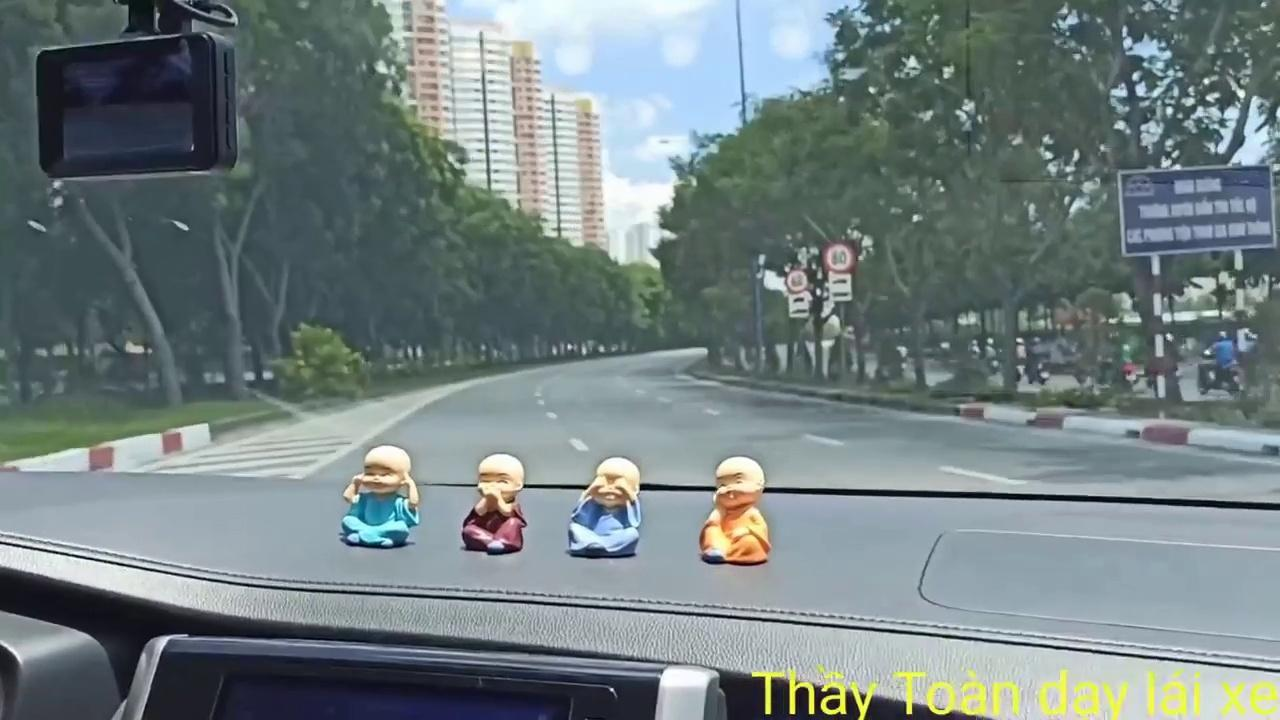Biển phụ: (828, 273, 852, 302), (788, 294, 809, 319)
GIơi hạn tốc độ 60Km/h: (785, 266, 810, 294)
Giới hạn tốc độ 80Km/h: (822, 240, 858, 273)
